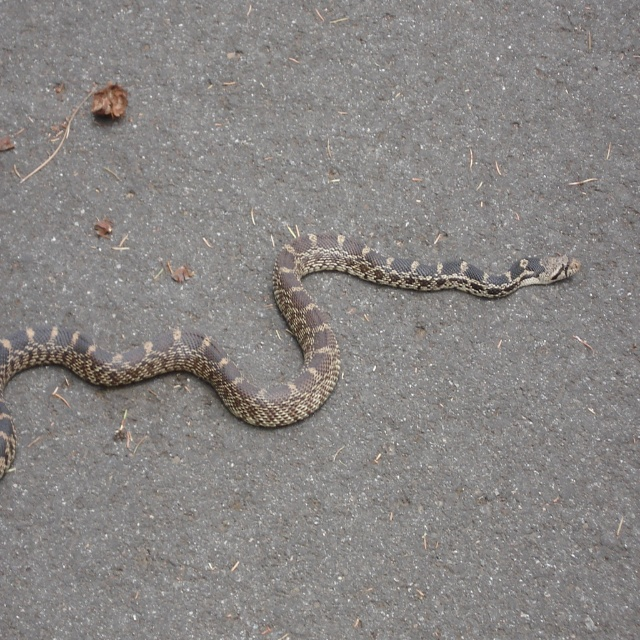Snake: (0, 227, 585, 486)
